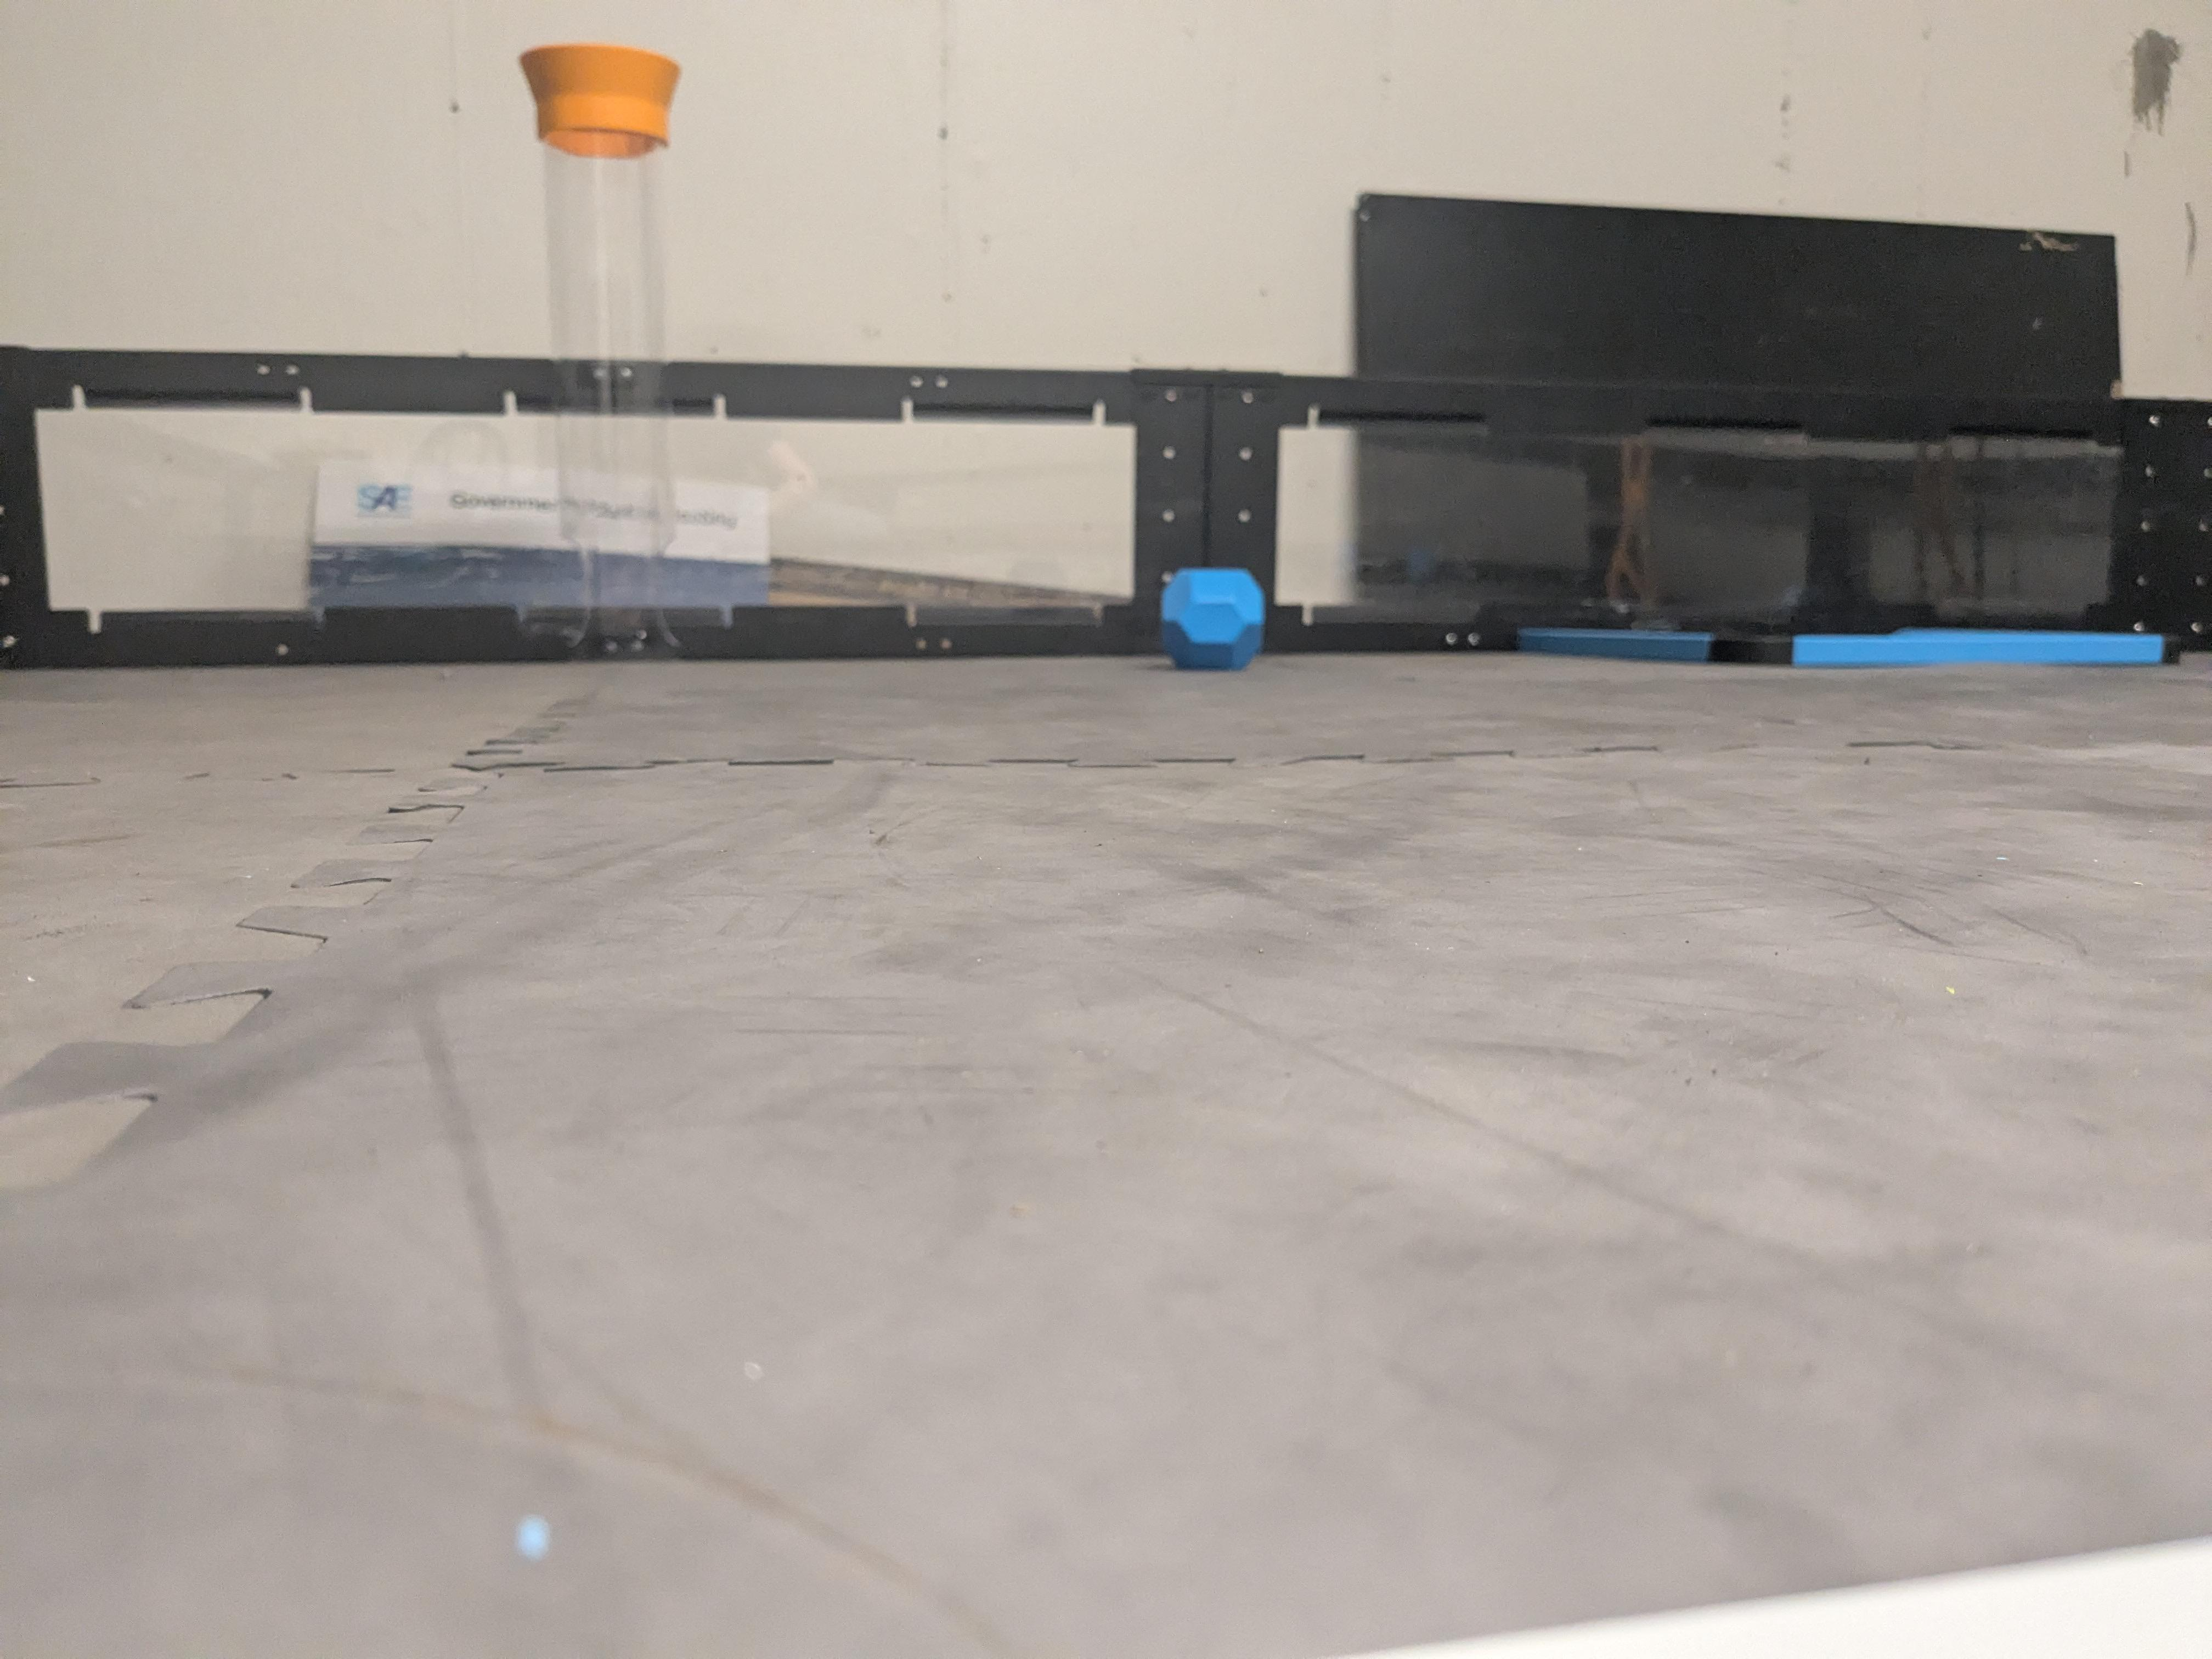Vex-Pieces-BLUE: (1157, 570, 1264, 671)
